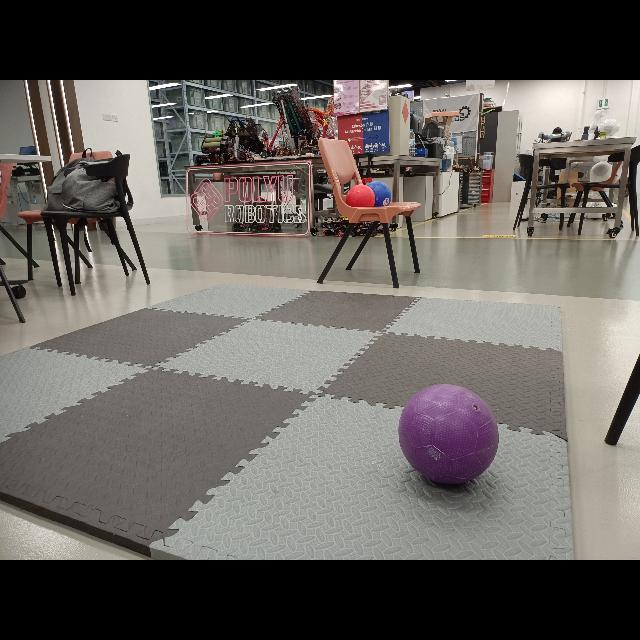B: (366, 182, 392, 208)
P: (399, 384, 499, 484)
R: (346, 183, 376, 210)
